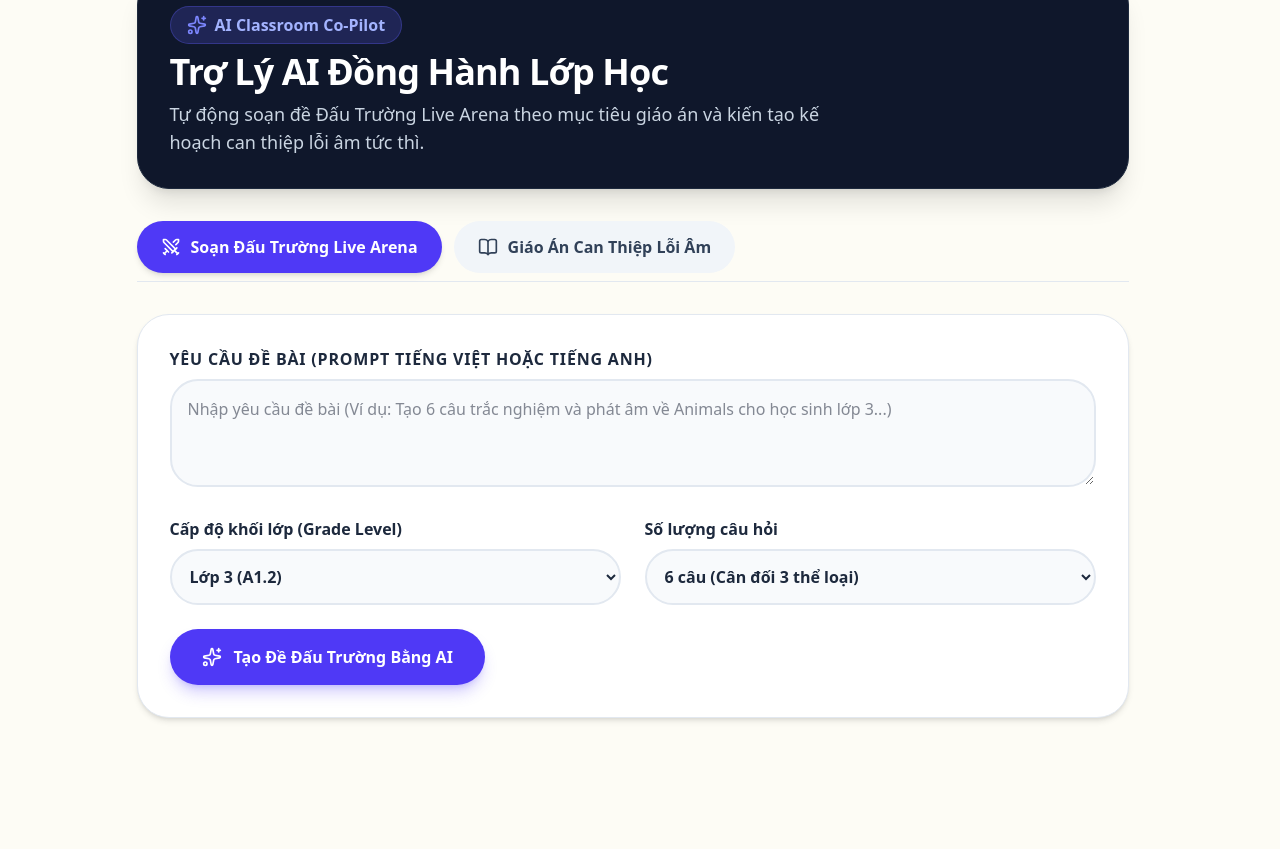
AiClassroomCopilot Component › switches to Remediation Lesson Plan tab and generates a 15-minute plan
Click the button "Giáo Án Can Thiệp Lỗi Âm": (594,247) [454,221,735,273]
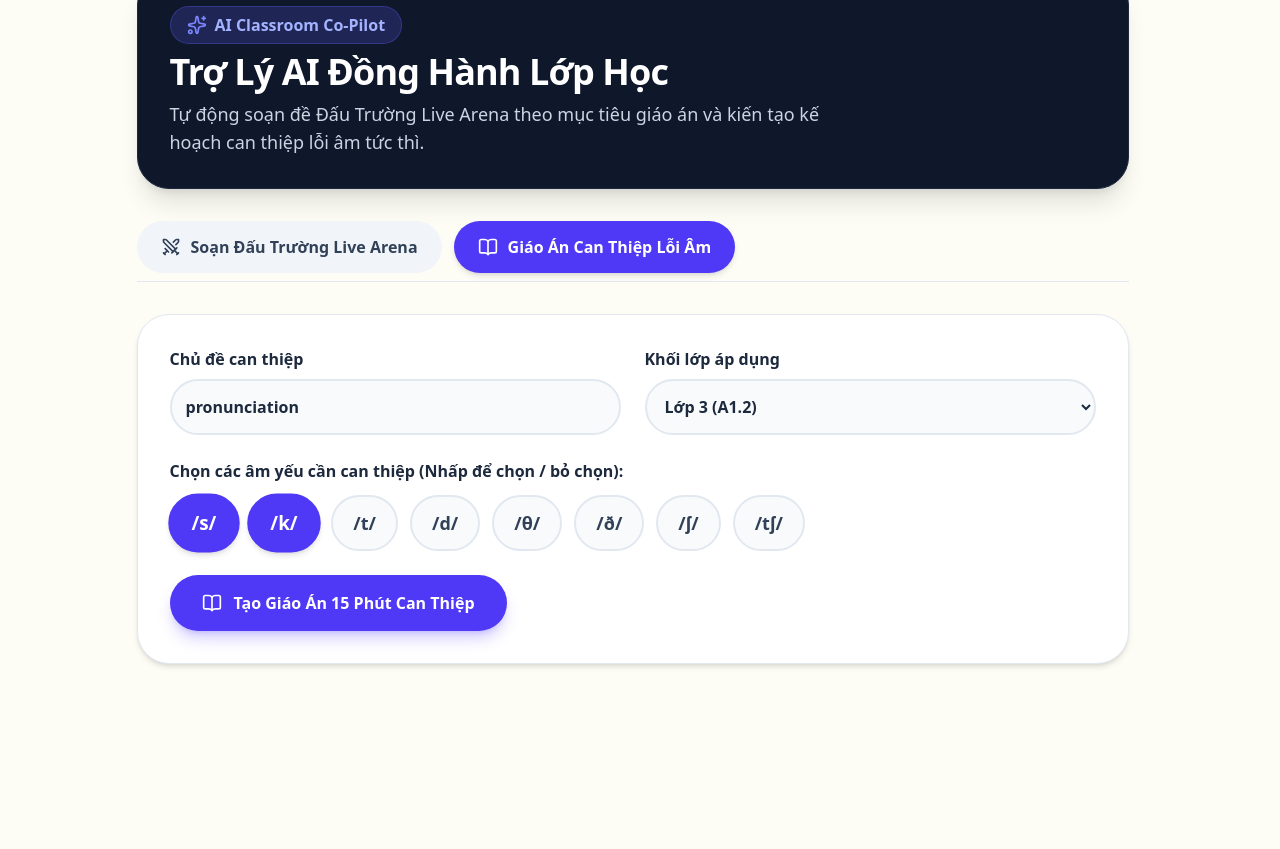
Click the button "Tạo Giáo Án 15 Phút Can Thiệp": (338,603) [170,575,506,631]
(page scrolled)
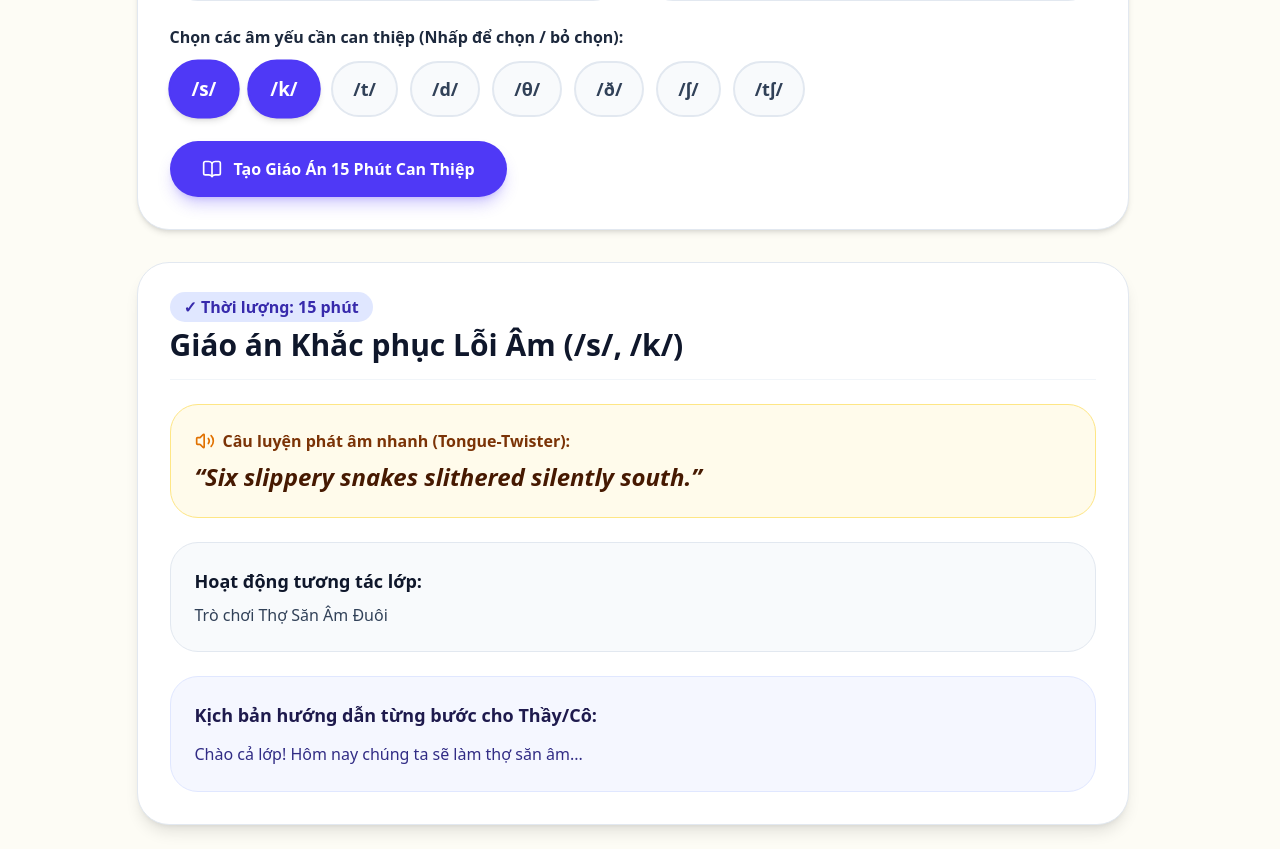
expect the text "“Six slippery snakes slithered silently south.”" is shown: met, box [194,460,702,493]
expect the text "Trò chơi Thợ Săn Âm Đuôi" is shown: met, box [194,604,388,626]
